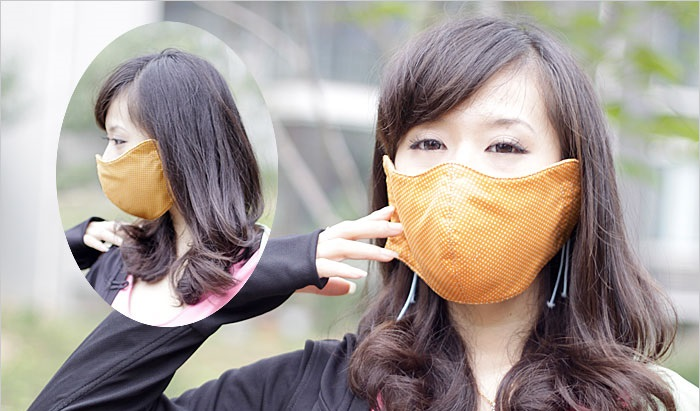face_mask: (387, 71, 563, 297), (92, 84, 203, 208)
